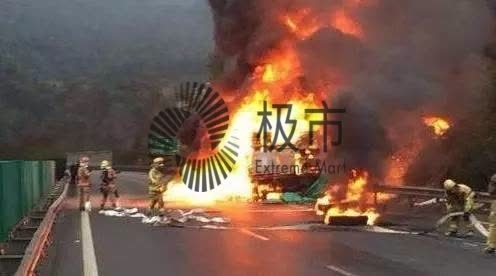fire: (172, 37, 332, 205), (314, 168, 388, 227), (419, 109, 454, 138)
